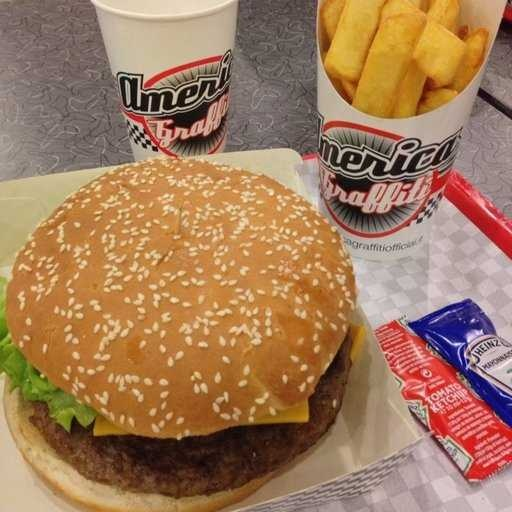hamburger: (6, 163, 351, 492)
